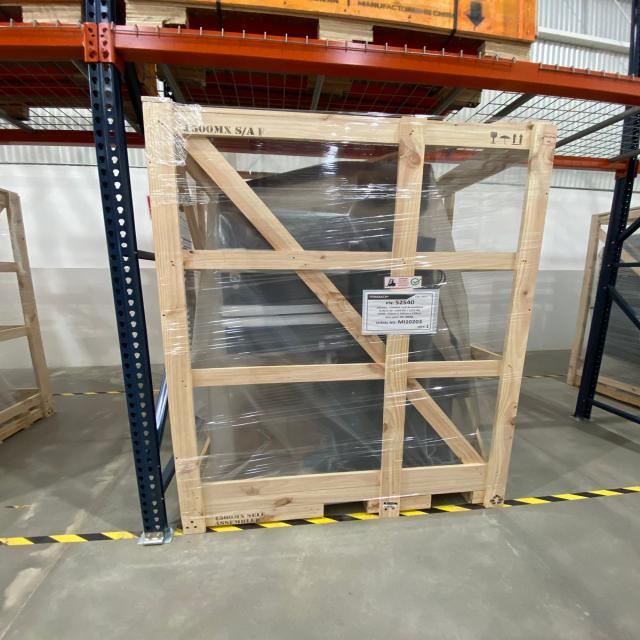1500b: (143, 97, 555, 534)
